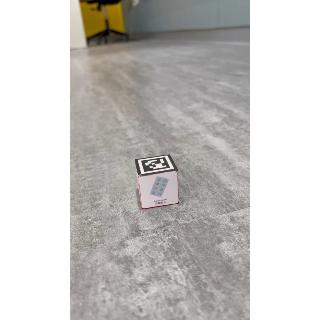Tablet: (140, 172, 181, 206)
